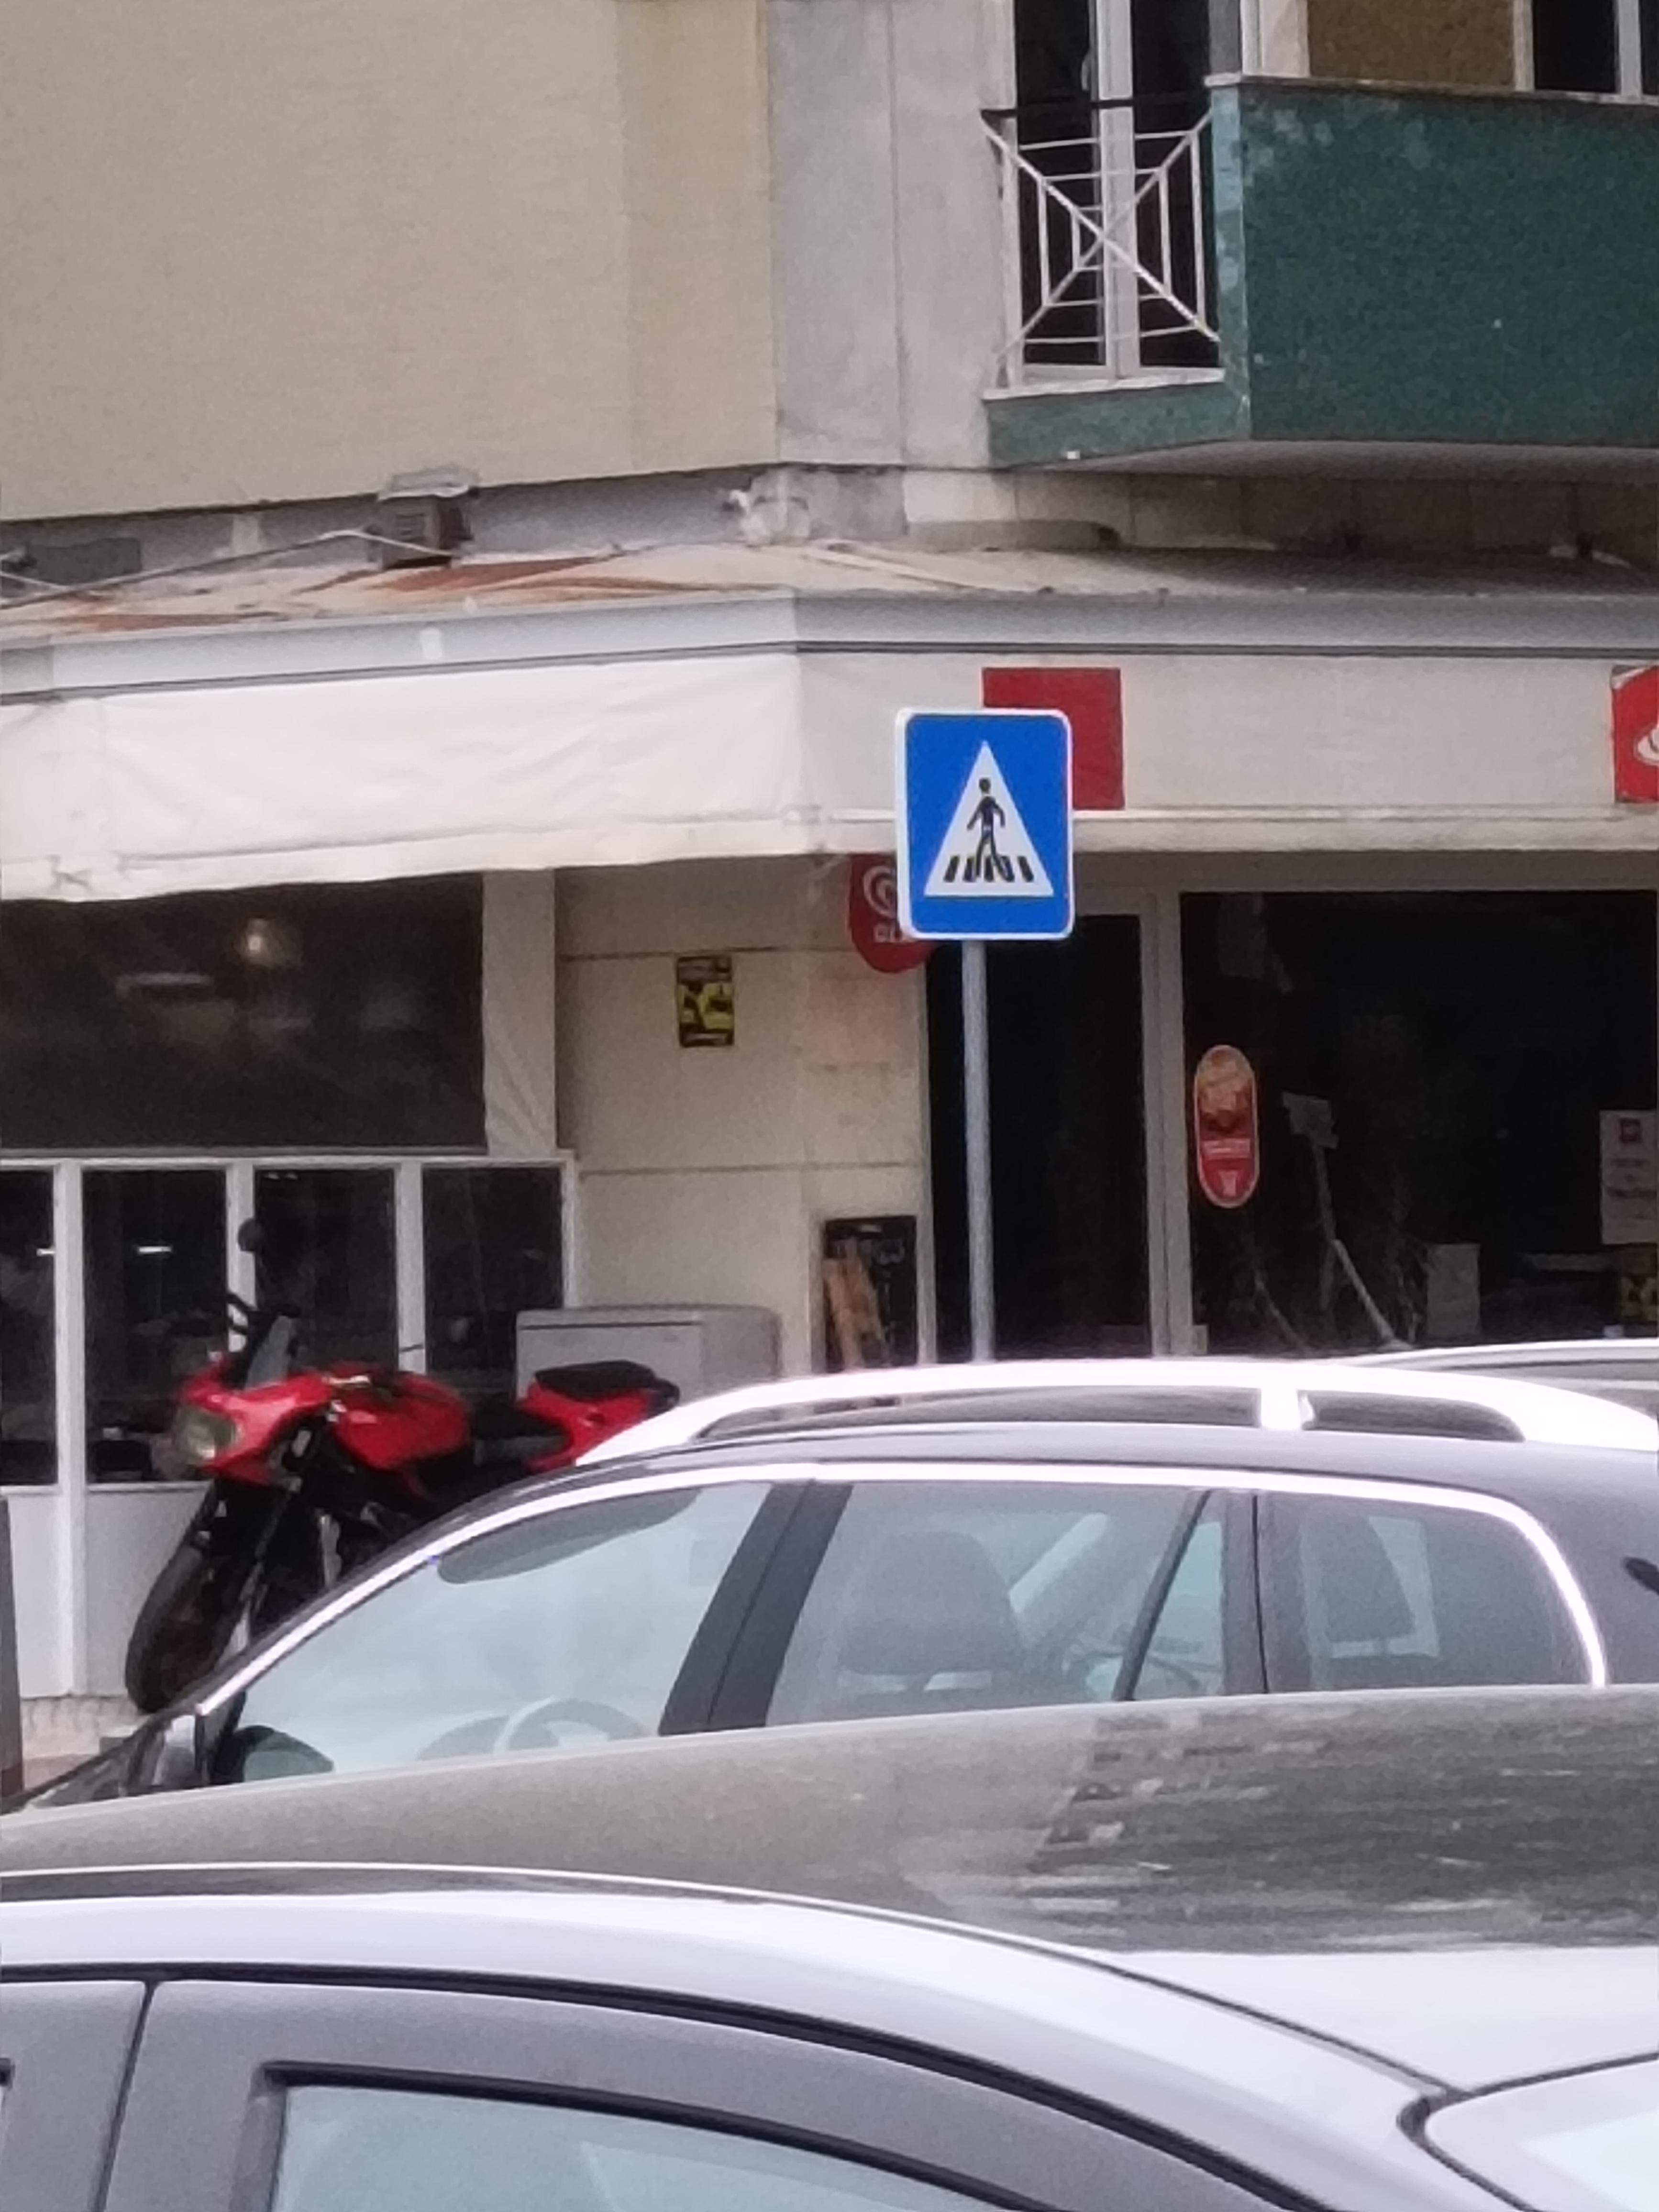passagem para peoes: (894, 693, 1086, 942)
